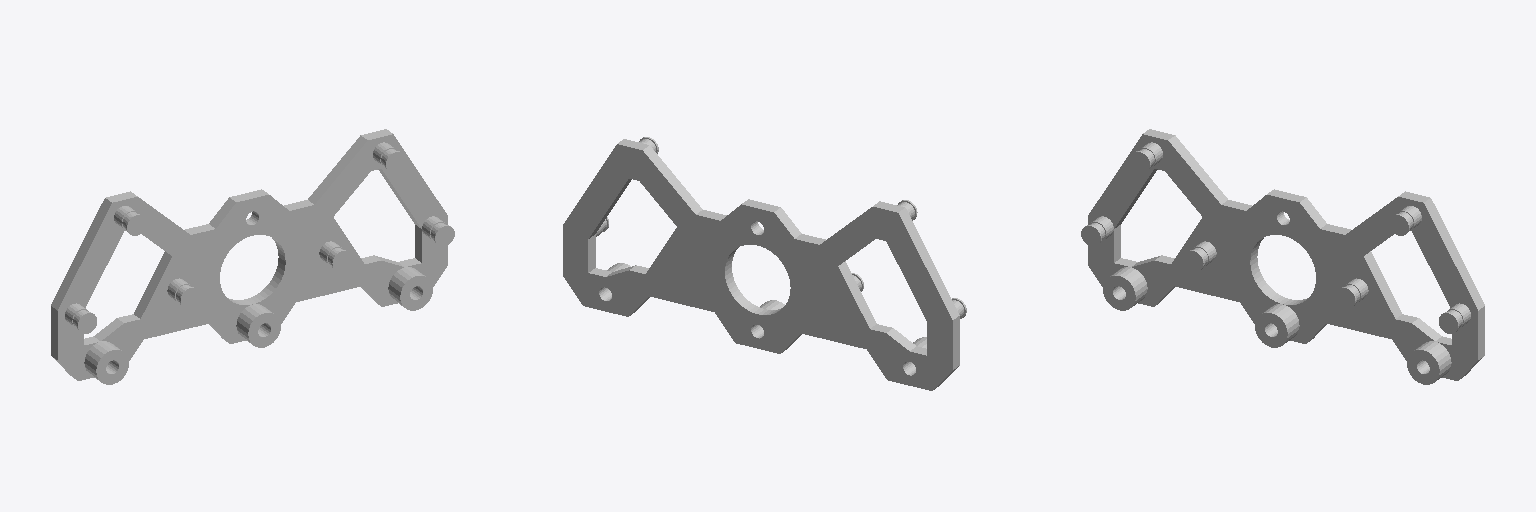
File: RS_LegBaseIn_v1.obj
3 renders of one model, left to right at view 1: azimuth 30°, elevation 25°; view 2: azimuth 150°, elevation 25°; view 3: azimuth 330°, elevation 25°, orthographic.
Parts seen in each view (by area): view 1: Mesh22 Group5 Group1 Model, Mesh2 Group3 Group1 Model, Mesh3 Group4 Group1 Model, Mesh1 Group2 Group1 Model; view 2: Mesh22 Group5 Group1 Model; view 3: Mesh22 Group5 Group1 Model, Mesh1 Group2 Group1 Model, Mesh3 Group4 Group1 Model, Mesh2 Group3 Group1 Model.
Part boxes in pixels (left/top/right/bottom): Mesh22 Group5 Group1 Model: left=51, top=129, right=447, bottom=380; Mesh2 Group3 Group1 Model: left=84, top=341, right=128, bottom=384; Mesh3 Group4 Group1 Model: left=236, top=304, right=280, bottom=347; Mesh1 Group2 Group1 Model: left=388, top=267, right=432, bottom=310; Mesh22 Group5 Group1 Model: left=563, top=139, right=959, bottom=390; Mesh22 Group5 Group1 Model: left=1088, top=129, right=1484, bottom=380; Mesh1 Group2 Group1 Model: left=1407, top=341, right=1451, bottom=384; Mesh3 Group4 Group1 Model: left=1255, top=304, right=1299, bottom=347; Mesh2 Group3 Group1 Model: left=1103, top=267, right=1147, bottom=310.
Bounding box in the file's own units: 95 × 39.62 × 8.7.